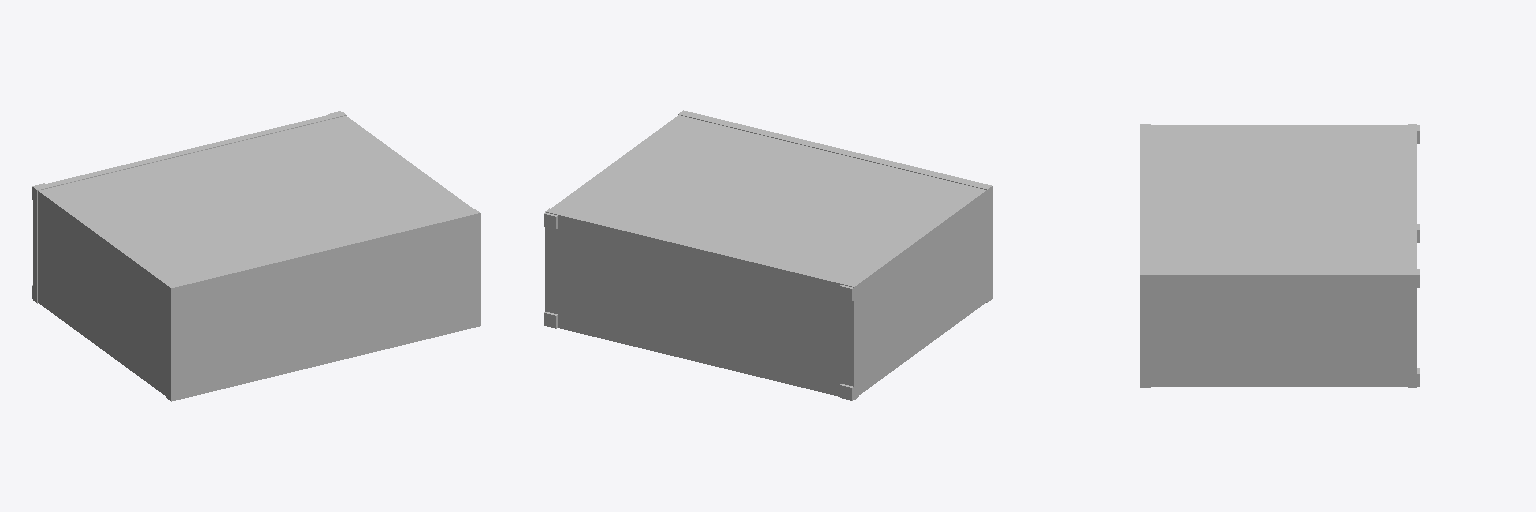
File: bookcase 2.obj
3 renders of one model, left to right at view 1: azimuth 30°, elevation 25°; view 2: azimuth 150°, elevation 25°; view 3: azimuth 270°, elevation 25°, orthographic.
Parts seen in each view (by area): view 1: obj144, obj151, obj8, obj150, obj156, obj9, obj3, obj149; view 2: obj144, obj157, obj8, obj150, obj156, obj3, obj9, obj149, obj155; view 3: obj144, obj4, obj150, obj156, obj147, obj3, obj9, obj153.
Part boxes in pixels (left/top/right/bottom): obj144: left=48, top=118, right=464, bottom=281; obj151: left=171, top=213, right=480, bottom=401; obj8: left=38, top=191, right=165, bottom=395; obj150: left=166, top=209, right=479, bottom=287; obj156: left=34, top=112, right=345, bottom=189; obj9: left=39, top=189, right=173, bottom=283; obj3: left=338, top=116, right=472, bottom=210; obj149: left=166, top=285, right=170, bottom=400; obj144: left=561, top=117, right=976, bottom=281; obj157: left=545, top=212, right=853, bottom=396; obj8: left=859, top=190, right=986, bottom=394; obj150: left=679, top=110, right=991, bottom=189; obj156: left=545, top=208, right=857, bottom=286; obj3: left=551, top=115, right=687, bottom=210; obj9: left=850, top=188, right=985, bottom=283; obj149: left=987, top=186, right=992, bottom=302; obj155: left=854, top=284, right=858, bottom=399; obj144: left=1151, top=129, right=1407, bottom=270; obj4: left=1151, top=275, right=1407, bottom=386; obj150: left=1140, top=124, right=1150, bottom=274; obj156: left=1408, top=124, right=1416, bottom=274; obj147: left=1140, top=275, right=1150, bottom=387; obj3: left=1151, top=271, right=1407, bottom=274; obj9: left=1151, top=125, right=1407, bottom=128; obj153: left=1408, top=275, right=1416, bottom=387.
Bounding box in the file's own units: 39.37 × 13.78 × 30.91.